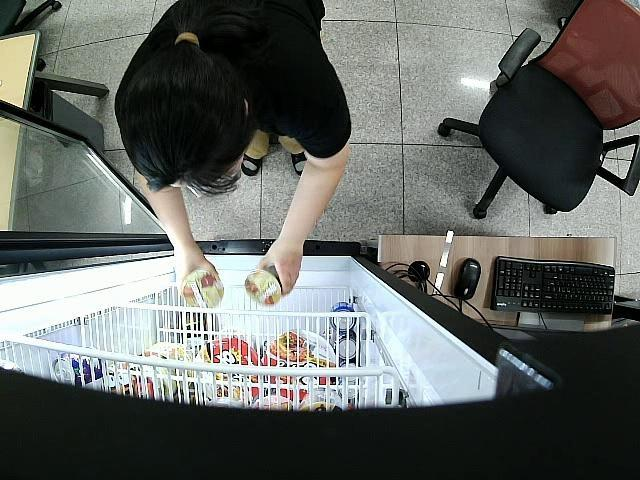04_chapagetti_S: (179, 270, 224, 310), (244, 266, 282, 307)
